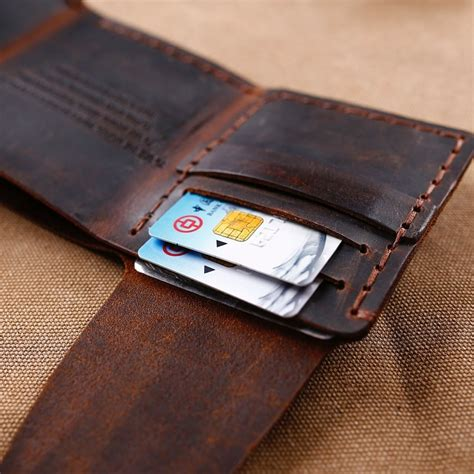cuero: (20, 35, 474, 474)
